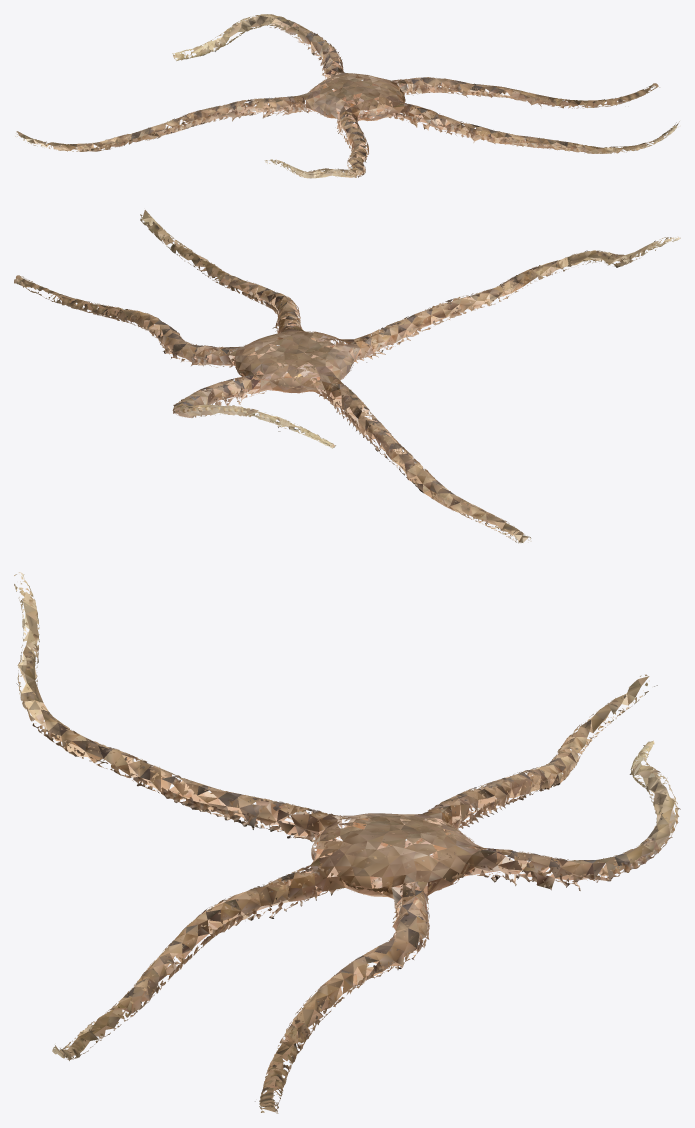
The model's file is star.glb.
3 views of the same model, one above another, from view 1: azimuth 30°, elevation 25°; view 2: azimuth 150°, elevation 25°; view 3: azimuth 270°, elevation 25° (orthographic). The views are drawn at different scales.
Visible parts, largest first — view 1: Q11453-1all_5; view 2: Q11453-1all_5; view 3: Q11453-1all_5.
Boxes of the visible parts, box(x1,y1,x2,y2) form: Q11453-1all_5: box(15, 14, 679, 178); Q11453-1all_5: box(14, 210, 680, 543); Q11453-1all_5: box(14, 572, 680, 1113).
Bounding box in the file's own units: 8.63 × 1.69 × 5.55.
1 material, 1 textured.
